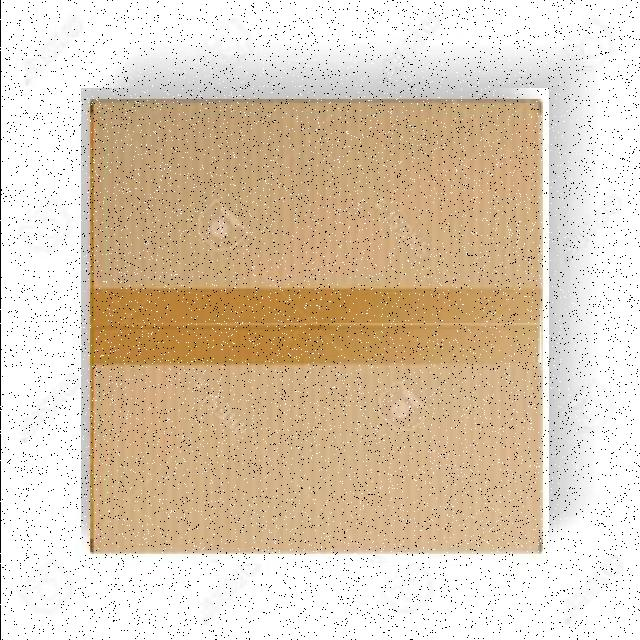normal: (80, 88, 548, 563)
